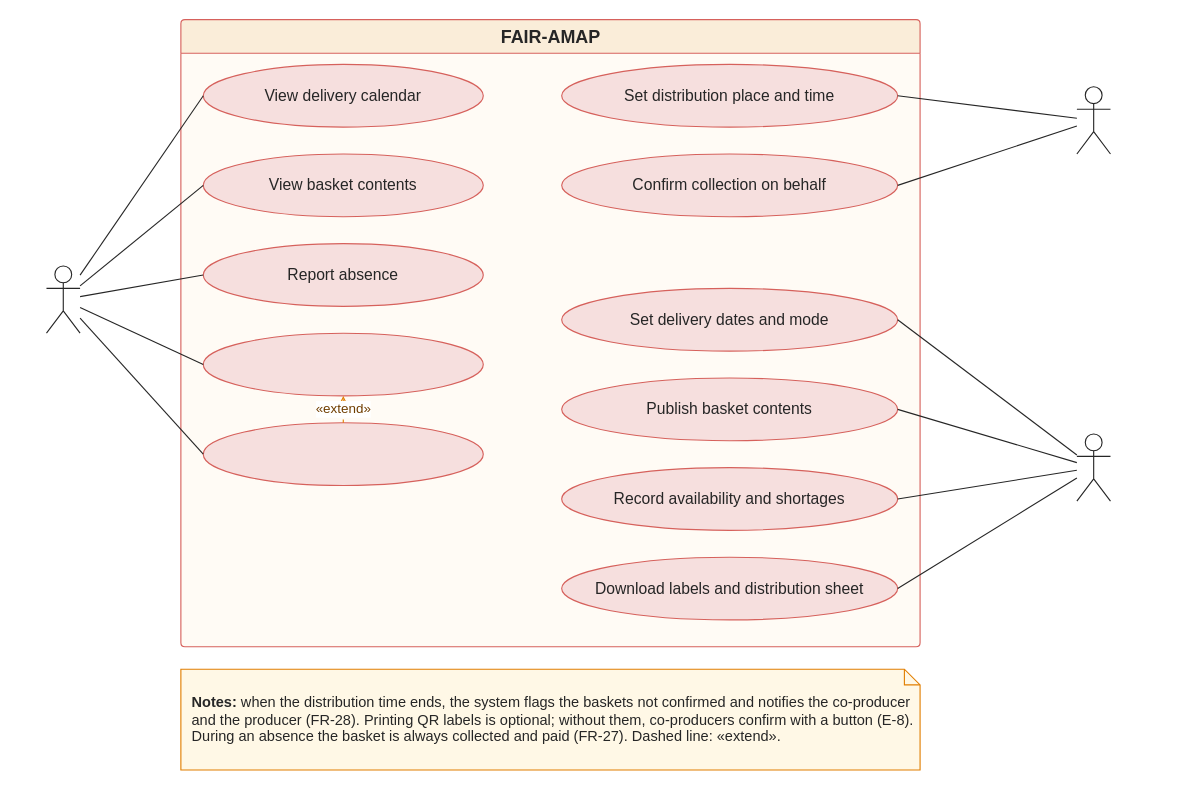
Some shapes in this 1183 by 790 pixel diagram are drawn without their labels. Here are the shapes that lost their labels. From the top down, the centre of each, then its label:
the point at 1093,120: AMAP management
the point at 62,299: Co-producer
the point at 342,364: Confirm collection
the point at 342,454: Scan bag QR code
the point at 1093,467: Producer
